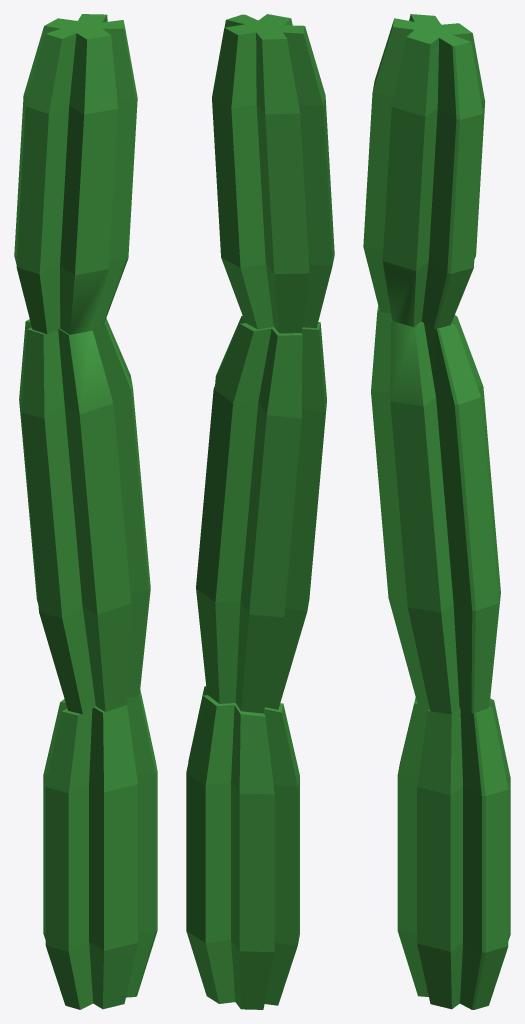
The model's file is Cactus_07.fbx.
3 views of the same model, side by side, from view 1: azimuth 30°, elevation 25°; view 2: azimuth 150°, elevation 25°; view 3: azimuth 330°, elevation 25° (orthographic).
Parts seen in each view (by area): view 1: Model; view 2: Model; view 3: Model.
Boxes of the visible parts, <box> form: Model: <box>14,14,157,1009</box>; Model: <box>186,14,334,1009</box>; Model: <box>363,14,510,1009</box>.
Size of the model in its own units: 92.92 by 613 by 49.82.
